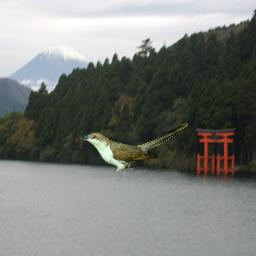Cuckoo: (80, 122, 188, 171)
